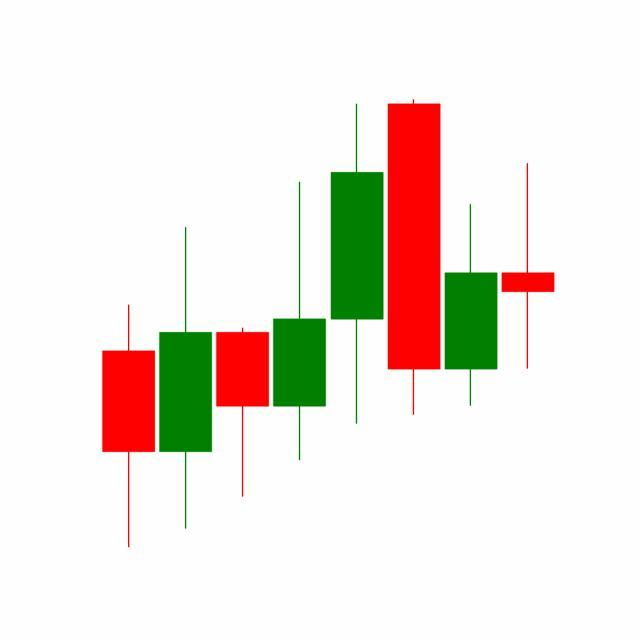Hikkake Pattern: (270, 99, 555, 466)
